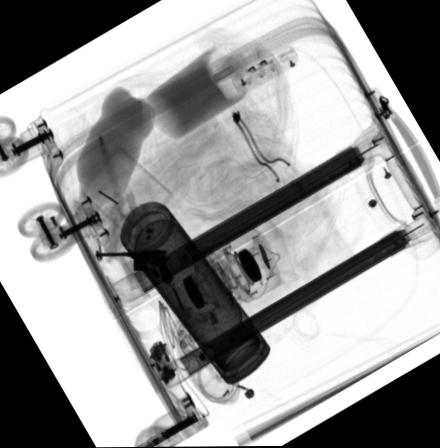Gun: (95, 246, 172, 284)
